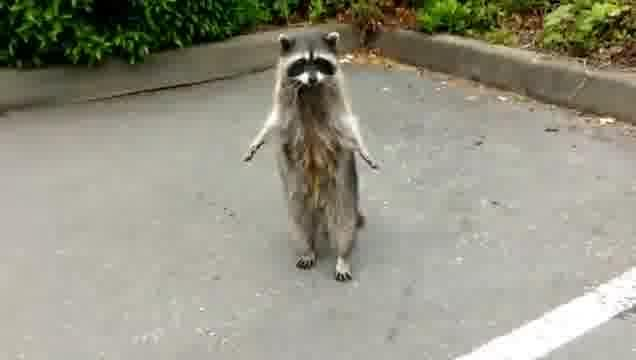raccoon: (236, 27, 388, 285)
